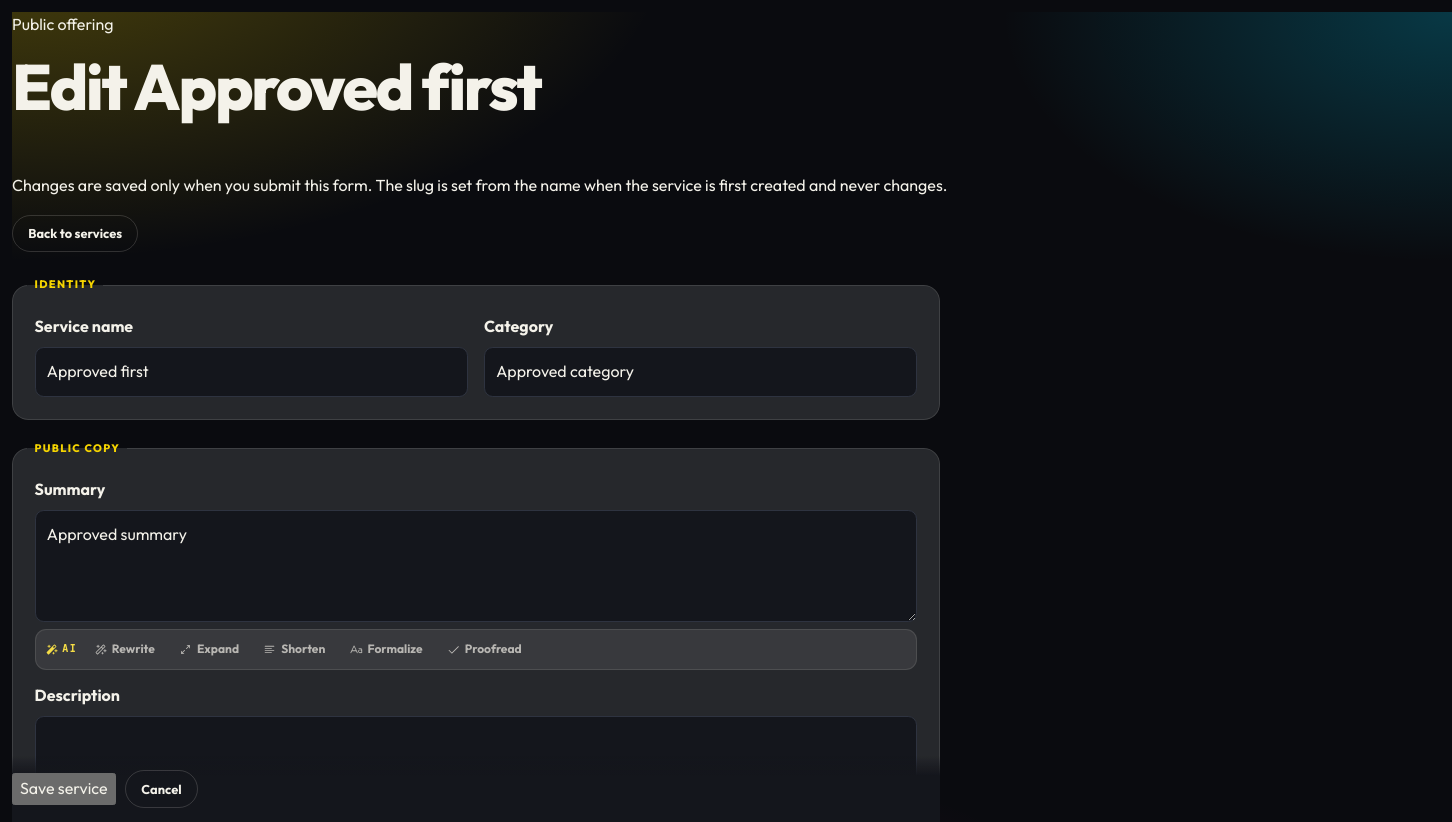
Scenario: keeps the draft on the page when a name conflicts
Replace the text in the field labelled "Service name" with "Approved second" at (251, 372), box 35,347 -> 468,397
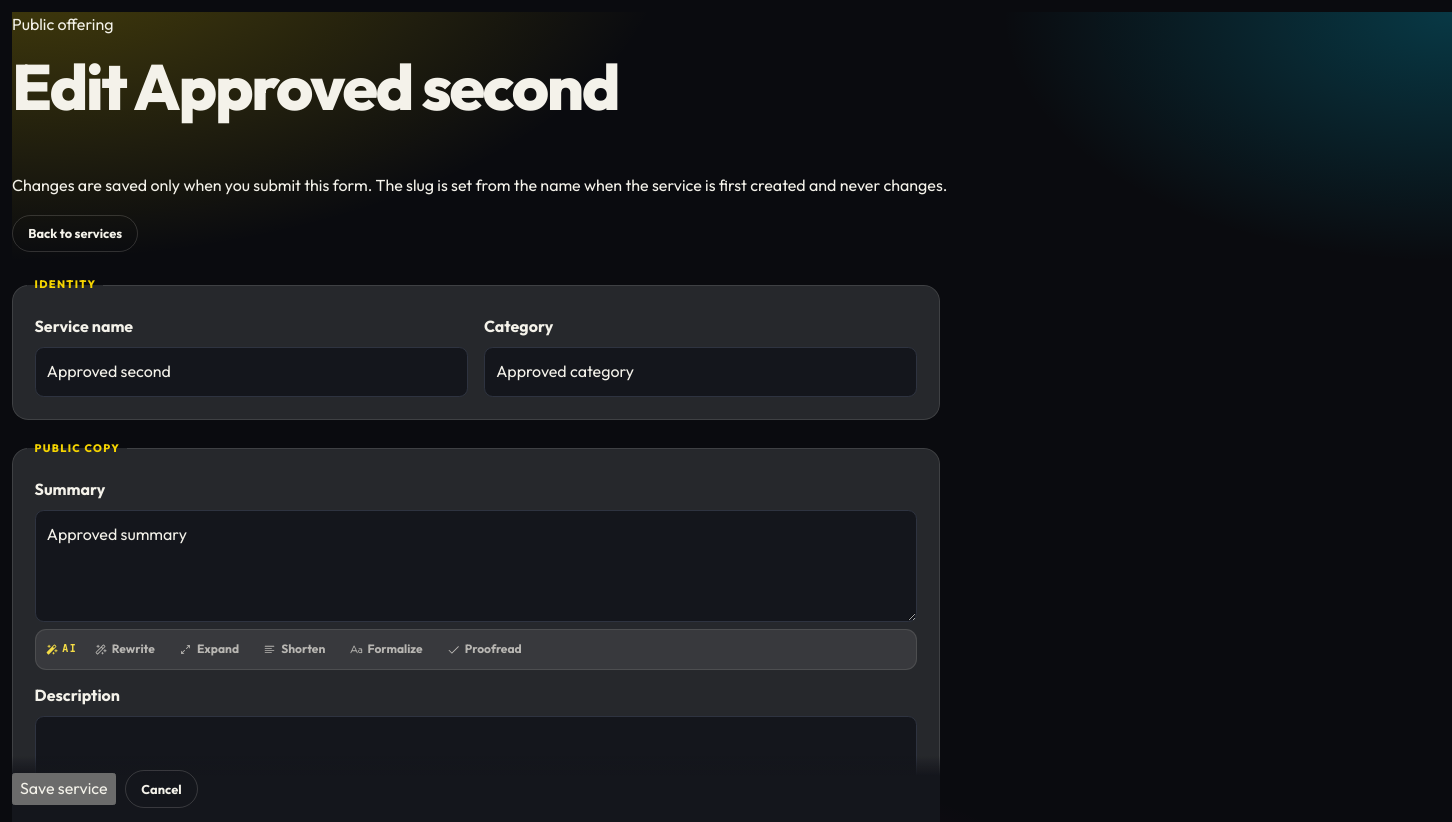
Click the button "Save service" at (64, 789), box 12,773 -> 116,805
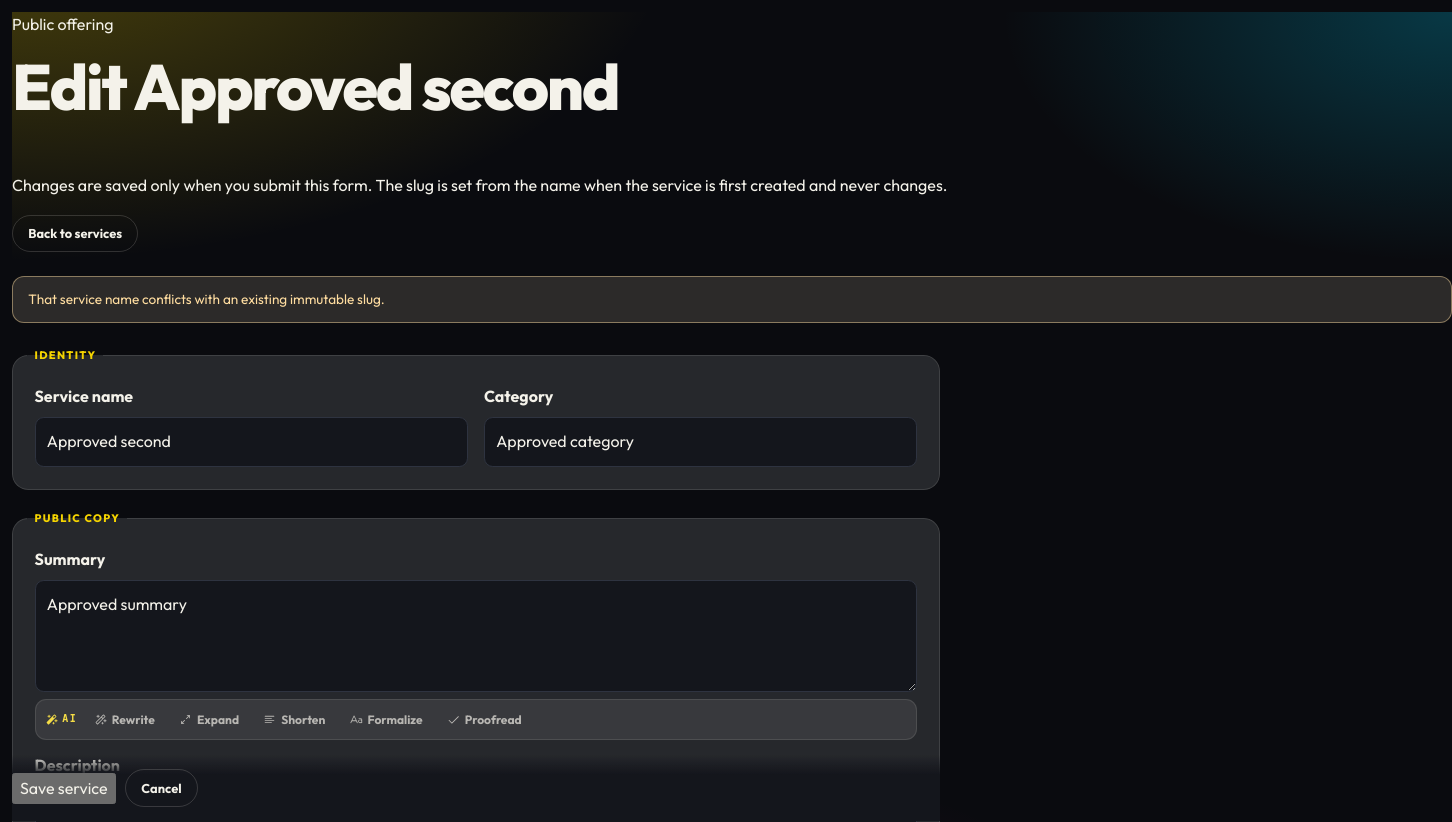
Check: the message shows "conflicts with an existing immutable slug", box 28,290 -> 385,308
